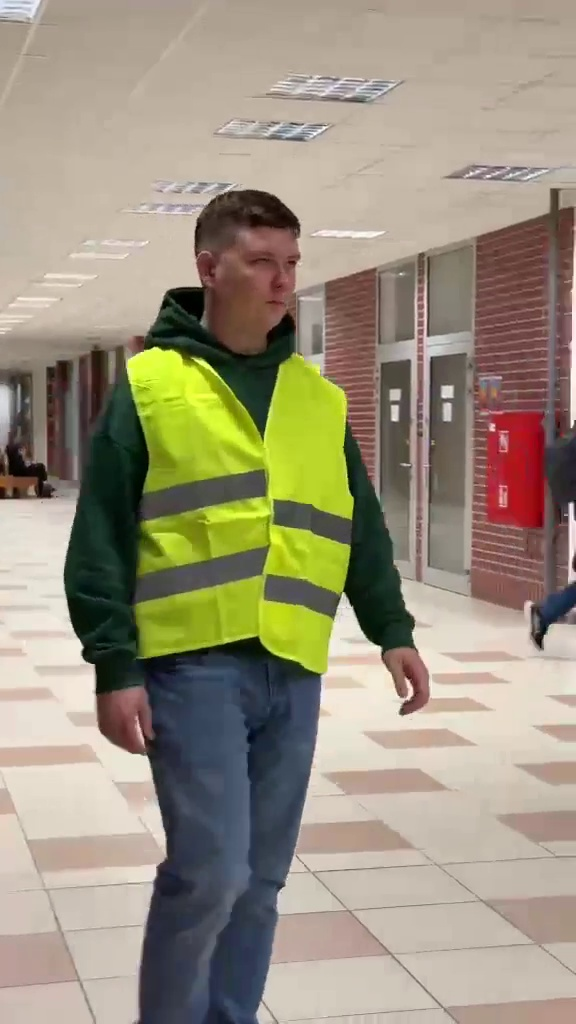vest: (64, 180, 438, 996)
